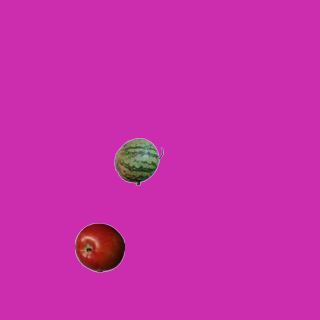Apple Braeburn: (74, 222, 124, 272)
Watermelon: (113, 136, 163, 186)
